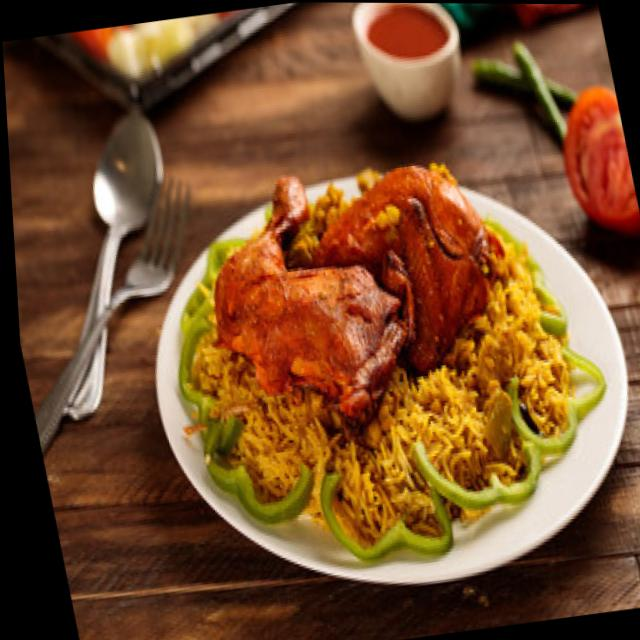BIRIYANI: (179, 161, 610, 562)
